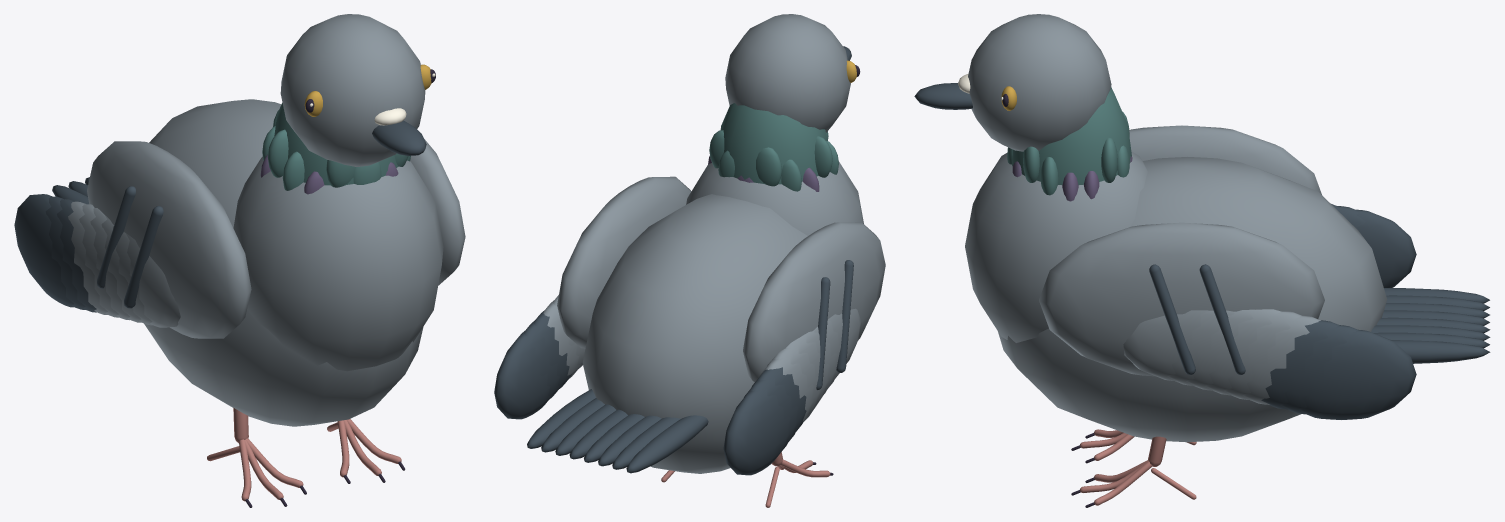
The model's file is pigeon.glb.
3 renders of one model, left to right at view 1: azimuth 30°, elevation 25°; view 2: azimuth 150°, elevation 25°; view 3: azimuth 270°, elevation 25°, orthographic. The views are drawn at different scales.
Parts seen in each view (by area): view 1: Breast, Pear_shaped_body, Wing_coverts, Rounded_head, Overlapping_primary_feather.008, Wing_coverts.001, Overlapping_primary_feather, Tapered_neck, Upper_beak, Overlapping_primary_feather.007, Overlapping_primary_feather.005, Overlapping_primary_feather.006 (+12 smaller); view 2: Pear_shaped_body, Wing_coverts, Rounded_head, Wing_coverts.001, Breast, Tapered_neck, Overlapping_primary_feather.008, Overlapping_primary_feather.017, Tail_rectrix, Tail_rectrix.007, Overlapping_primary_feather.016, Overlapping_primary_feather.015 (+20 smaller); view 3: Pear_shaped_body, Wing_coverts.001, Breast, Rounded_head, Overlapping_primary_feather.017, Wing_coverts, Tapered_neck, Overlapping_primary_feather.009, Overlapping_primary_feather.008, Overlapping_primary_feather.015, Overlapping_primary_feather.014, Overlapping_primary_feather.016 (+15 smaller).
Boxes of the visible parts, left/top/right/bottom form: Breast: left=233, top=156, right=443, bottom=371; Pear_shaped_body: left=144, top=99, right=423, bottom=426; Wing_coverts: left=87, top=141, right=251, bottom=338; Rounded_head: left=280, top=14, right=425, bottom=166; Overlapping_primary_feather.008: left=14, top=194, right=73, bottom=307; Wing_coverts.001: left=410, top=139, right=465, bottom=285; Overlapping_primary_feather: left=125, top=232, right=180, bottom=327; Tapered_neck: left=274, top=102, right=398, bottom=185; Upper_beak: left=372, top=120, right=426, bottom=155; Overlapping_primary_feather.007: left=45, top=196, right=85, bottom=309; Overlapping_primary_feather.005: left=68, top=201, right=107, bottom=314; Overlapping_primary_feather.006: left=57, top=199, right=96, bottom=312; Pear_shaped_body: left=582, top=194, right=821, bottom=473; Wing_coverts: left=743, top=222, right=885, bottom=382; Rounded_head: left=725, top=14, right=850, bottom=132; Wing_coverts.001: left=557, top=176, right=691, bottom=348; Breast: left=686, top=161, right=863, bottom=235; Tapered_neck: left=720, top=103, right=826, bottom=184; Overlapping_primary_feather.008: left=723, top=388, right=790, bottom=475; Overlapping_primary_feather.017: left=494, top=331, right=552, bottom=419; Tail_rectrix: left=626, top=415, right=708, bottom=473; Tail_rectrix.007: left=527, top=389, right=595, bottom=448; Overlapping_primary_feather.016: left=524, top=320, right=562, bottom=399; Overlapping_primary_feather.015: left=533, top=310, right=571, bottom=389; Pear_shaped_body: left=998, top=157, right=1387, bottom=442; Wing_coverts.001: left=1039, top=222, right=1324, bottom=376; Breast: left=965, top=151, right=1147, bottom=342; Rounded_head: left=968, top=14, right=1111, bottom=151; Overlapping_primary_feather.017: left=1299, top=329, right=1416, bottom=419; Wing_coverts: left=1129, top=125, right=1321, bottom=194; Tapered_neck: left=1011, top=87, right=1131, bottom=184; Overlapping_primary_feather.009: left=1123, top=310, right=1212, bottom=381; Overlapping_primary_feather.008: left=1356, top=209, right=1416, bottom=287; Overlapping_primary_feather.015: left=1261, top=320, right=1339, bottom=409; Overlapping_primary_feather.014: left=1242, top=315, right=1320, bottom=404; Overlapping_primary_feather.016: left=1280, top=325, right=1358, bottom=414.
Size of the model in its own units: 0.274 by 0.4263 by 0.491.
